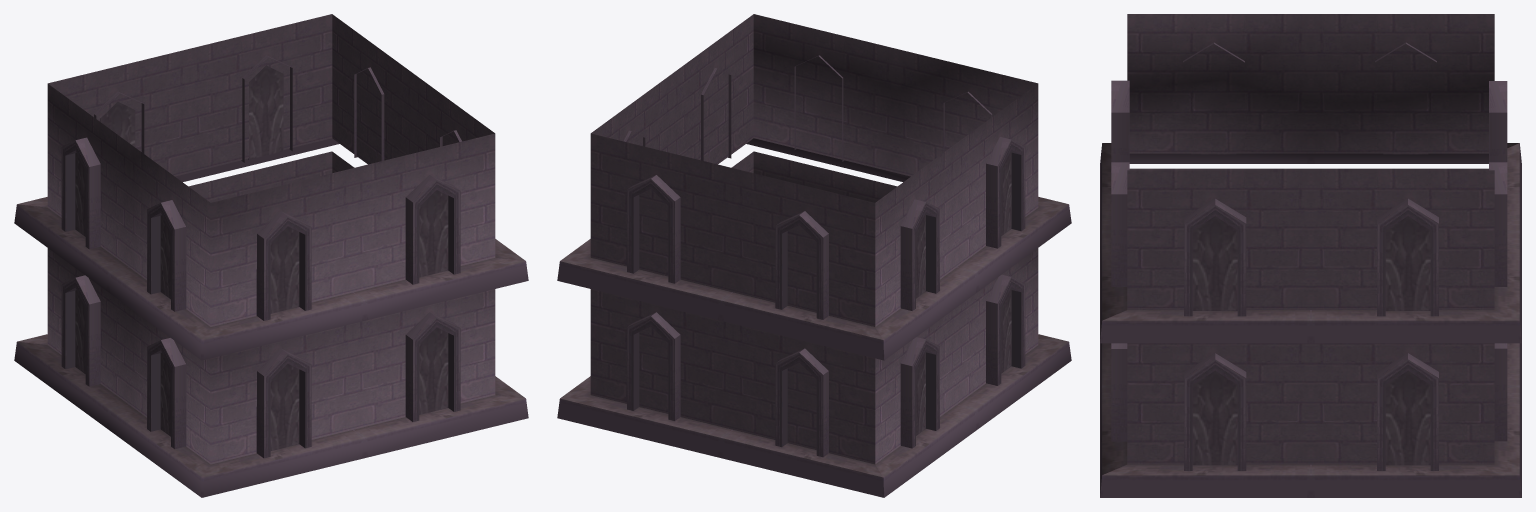
The model's file is SD_jianzhu05.FBX.
3 views of the same model, side by side, from view 1: azimuth 30°, elevation 25°; view 2: azimuth 150°, elevation 25°; view 3: azimuth 270°, elevation 25° (orthographic). The views are drawn at different scales.
Visible parts, largest first — view 1: SD_jianzhu05; view 2: SD_jianzhu05; view 3: SD_jianzhu05.
Boxes of the visible parts, x1,y1,x2,y2 form: SD_jianzhu05: [14, 14, 528, 497]; SD_jianzhu05: [557, 14, 1071, 497]; SD_jianzhu05: [1100, 14, 1521, 497].
Size of the model in its own units: 822 by 675 by 817.
Materials: 1 (1 with a texture image).
